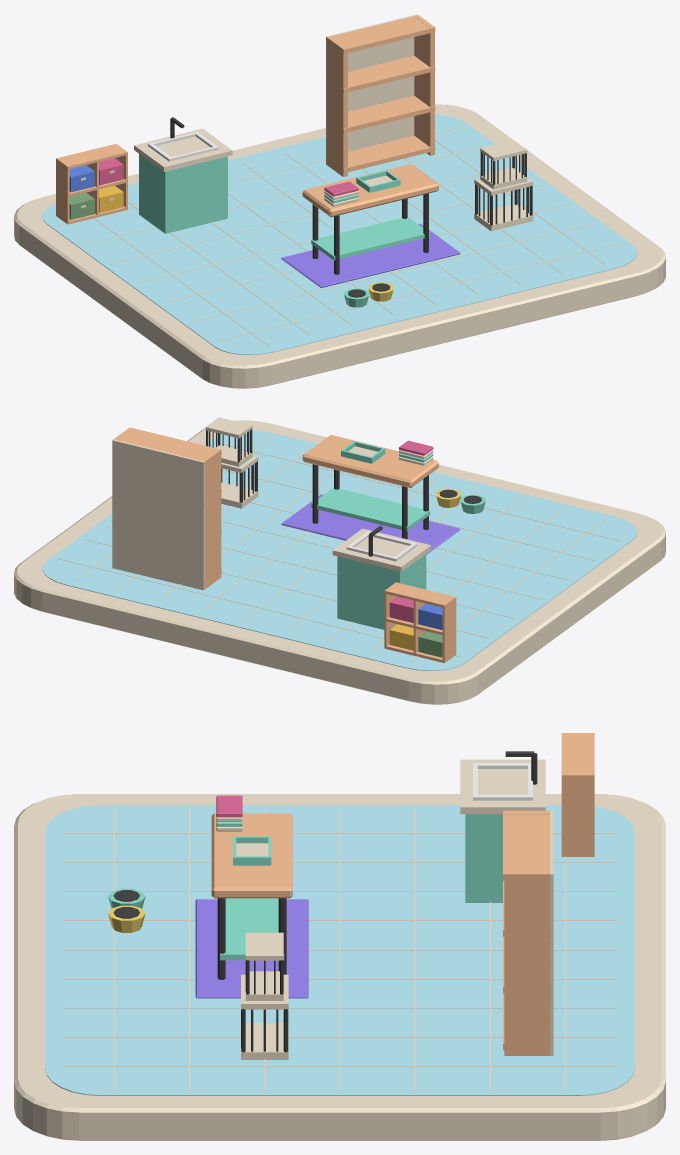
3 renders of one model, top to bottom at view 1: azimuth 30°, elevation 25°; view 2: azimuth 150°, elevation 25°; view 3: azimuth 270°, elevation 25°, orthographic. The views are drawn at different scales.
Visible parts, largest first — view 1: COM-02 Floor Surface, COM-01 Rounded Base Direct, Cabinet, Back, Rug, Worktop, Side, Lower shelf, Counter, Side.001, Shelf.003, Shelf.001 (+12 smaller); view 2: COM-02 Floor Surface, COM-01 Rounded Base Direct, Back, Cabinet, Worktop, Rug, Lower shelf, Side, Counter, Shelf.003, Cubbies shelf.002, Cubbies divider (+9 smaller); view 3: COM-02 Floor Surface, COM-01 Rounded Base Direct, Side.001, Rug, Worktop, Counter, Cabinet, Shelf.003, Cubbies divider.002, Lower shelf, Cubbies shelf.002, Floor (+15 smaller).
Boxes of the visible parts, x1,y1,x2,y2 form: COM-02 Floor Surface: (42, 114, 637, 354); COM-01 Rounded Base Direct: (14, 104, 665, 388); Cabinet: (139, 154, 227, 233); Back: (326, 14, 418, 164); Rug: (281, 223, 460, 287); Worktop: (302, 164, 438, 217); Side: (327, 36, 347, 176); Lower shelf: (311, 217, 430, 260); Counter: (134, 128, 232, 171); Side.001: (414, 15, 434, 155); Shelf.003: (326, 16, 435, 53); Shelf.001: (326, 95, 435, 133); COM-02 Floor Surface: (42, 430, 637, 670); COM-01 Rounded Base Direct: (14, 420, 665, 704); Back: (112, 439, 204, 590); Cabinet: (337, 554, 426, 629); Worktop: (302, 435, 438, 487); Rug: (281, 494, 460, 554); Lower shelf: (311, 487, 430, 531); Side: (201, 449, 221, 589); Counter: (332, 528, 431, 571); Shelf.003: (118, 427, 221, 466); Cubbies shelf.002: (384, 582, 455, 607); Cubbies divider: (442, 597, 456, 662); COM-02 Floor Surface: (45, 805, 634, 1095); COM-01 Rounded Base Direct: (14, 794, 665, 1140); Side.001: (504, 871, 551, 1055); Rug: (195, 899, 308, 998); Worktop: (211, 813, 292, 898); Counter: (460, 759, 545, 814); Cabinet: (465, 814, 502, 902); Shelf.003: (503, 811, 549, 880); Cubbies divider.002: (561, 775, 594, 856); Lower shelf: (220, 898, 284, 960); Cubbies shelf.002: (561, 733, 594, 774); Floor: (241, 1023, 288, 1059).
Bounding box in the file's own units: 6 × 1.9 × 5.2.
Materials: 1 (1 with a texture image).
